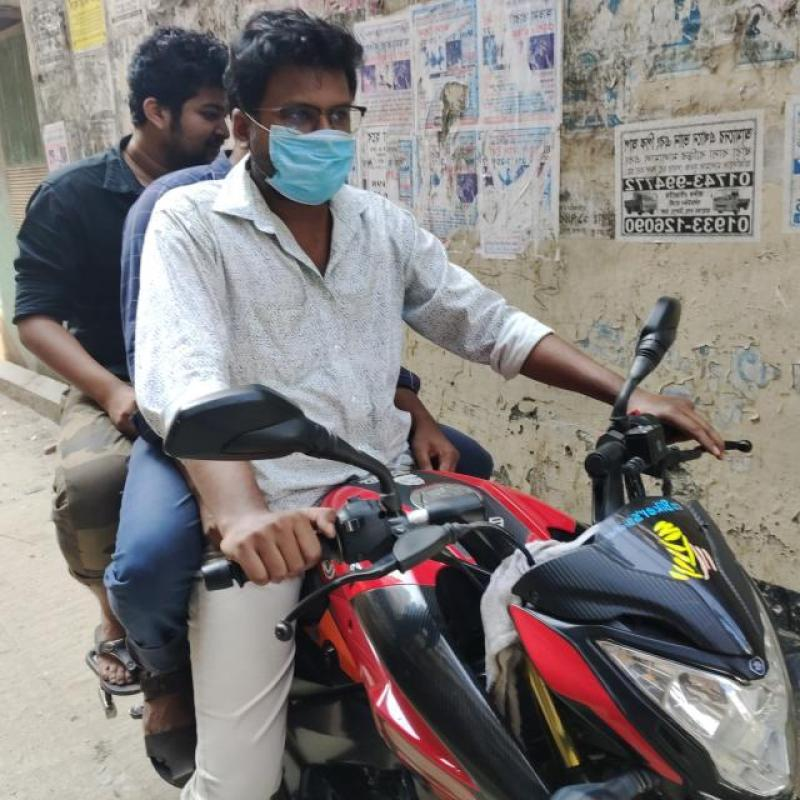nohelmet: (226, 4, 374, 214), (109, 0, 222, 186)
